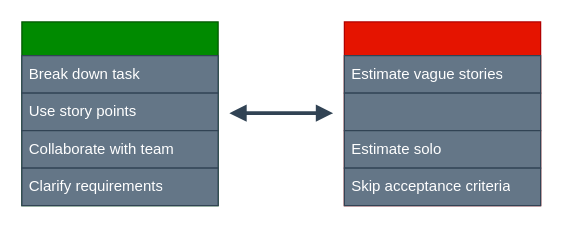
Image size: 563x228. Some labels were removed from this diagram. Each missing label, with the box of its shape:
Bad Practices: (343, 21, 541, 206)
Good Practices: (21, 21, 218, 206)
Time-based estimates: (343, 92, 541, 131)
